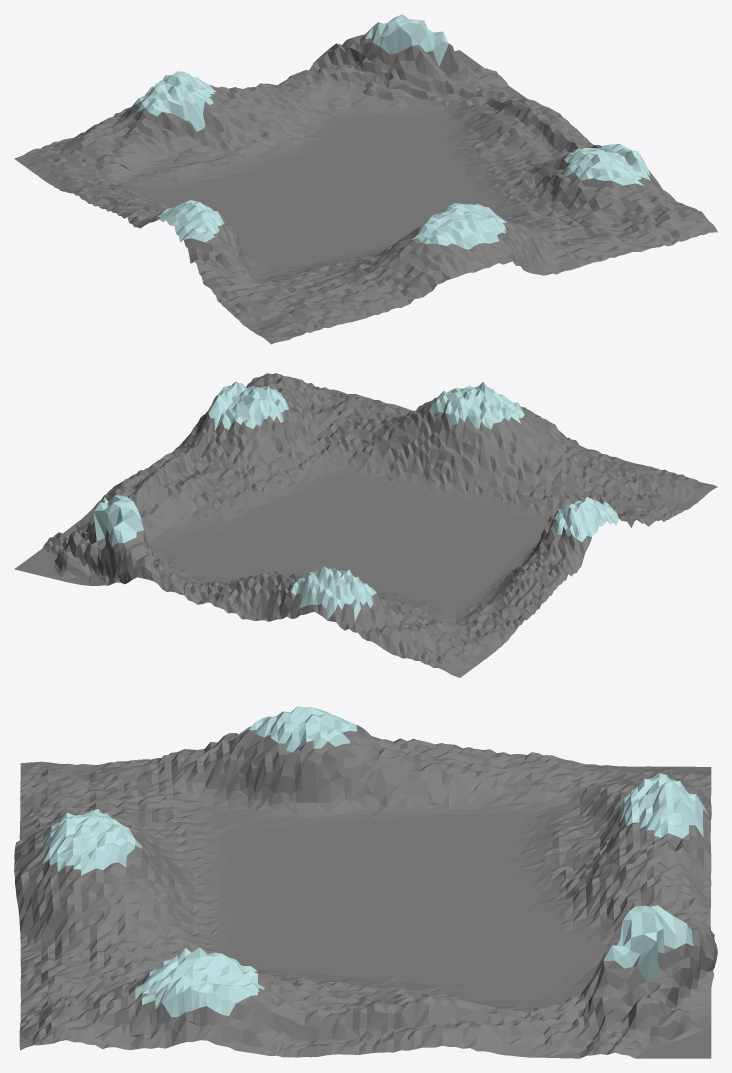
Rendered from MOUNATINS.fbx.
3 views of the same model, one above another, from view 1: azimuth 30°, elevation 25°; view 2: azimuth 150°, elevation 25°; view 3: azimuth 270°, elevation 25° (orthographic). The views are drawn at different scales.
Parts seen in each view (by area): view 1: pPlane5; view 2: pPlane5; view 3: pPlane5.
Part boxes in pixels (x1,y1,x2,y2): pPlane5: [14, 14, 717, 344]; pPlane5: [14, 373, 717, 677]; pPlane5: [14, 706, 717, 1058].
Size of the model in its own units: 2965 by 448 by 3014.
